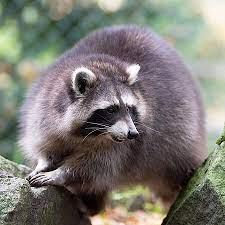raccoon: (2, 11, 223, 221)
